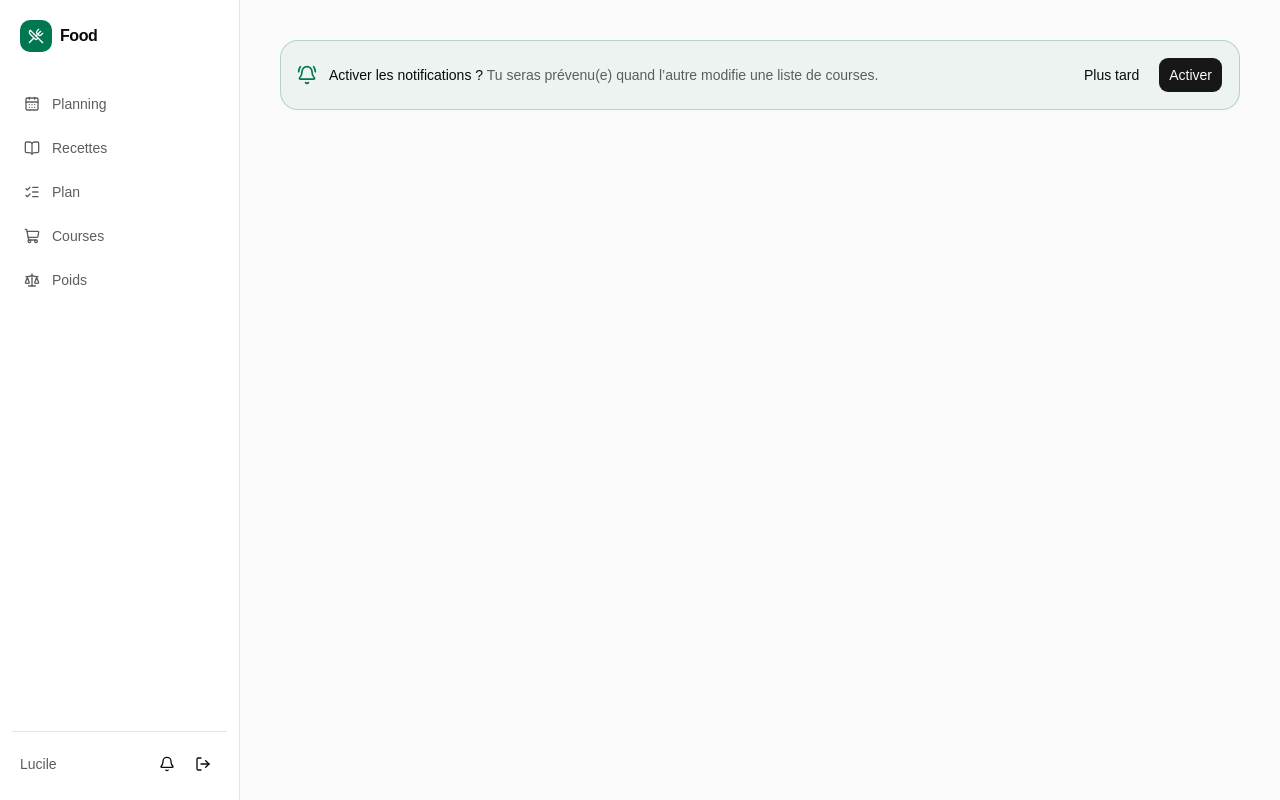
Test: notifications de l’application › propose une fois d’activer les notifications, pour toute l’application
Click the button "Activer" at (1191, 75), box [1158,57,1223,93]
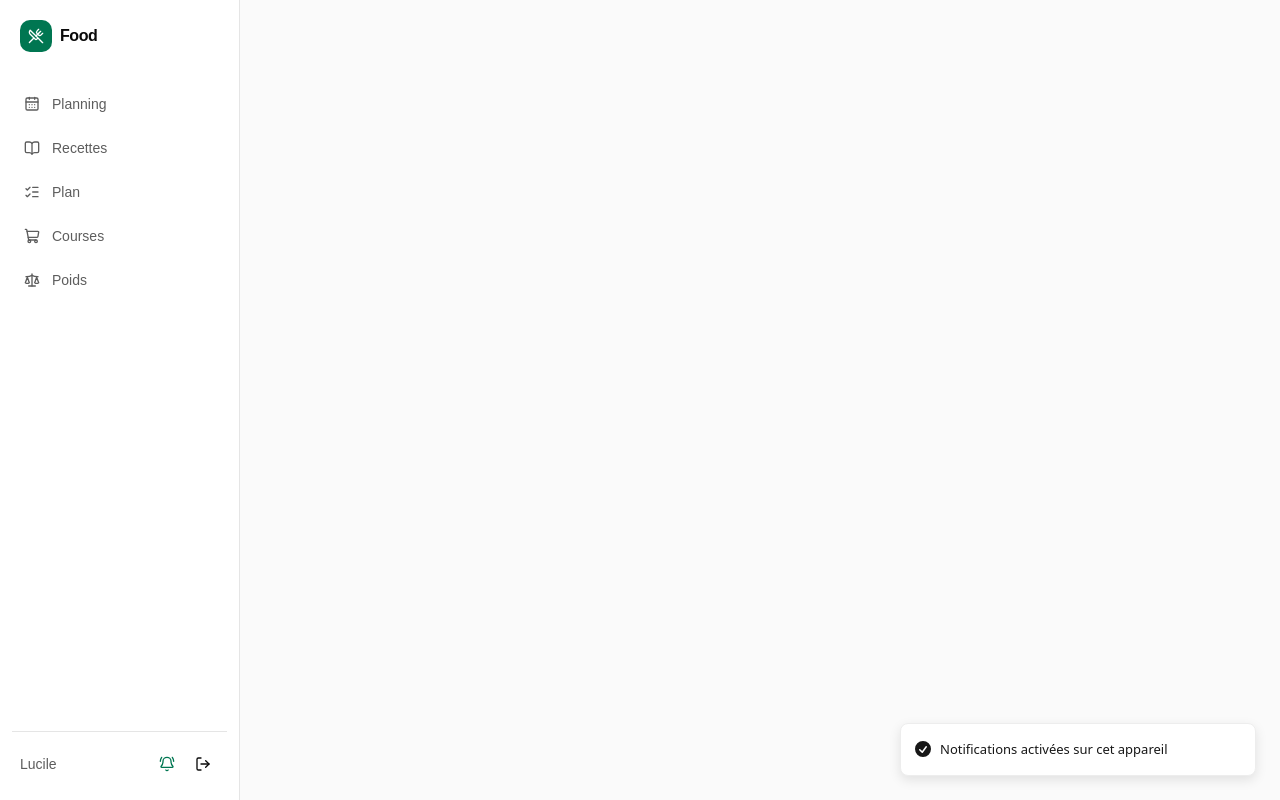
Expected: the text "Notifications activées sur cet appareil" is shown, [940,740,1168,759]
Expected: the text "Activer les notifications" is gone
